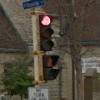Traffic light: (26, 6, 65, 80)
